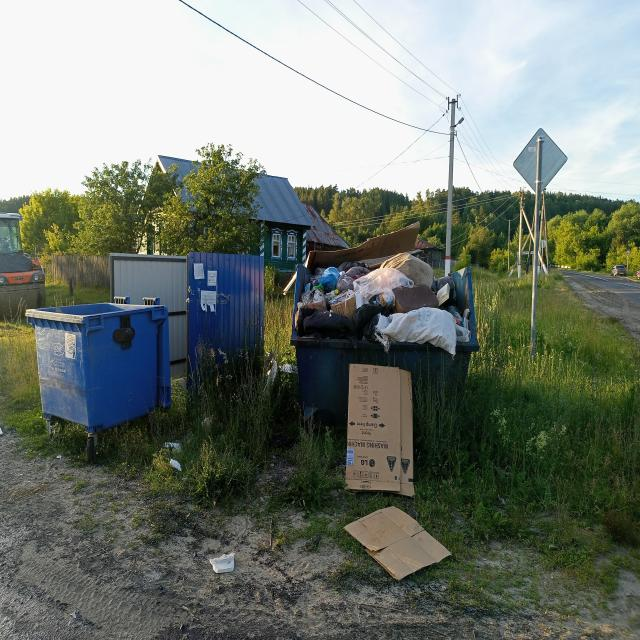bin: (25, 293, 174, 443), (294, 336, 472, 431)
trash: (294, 219, 471, 361), (345, 364, 419, 500), (343, 504, 451, 581)
